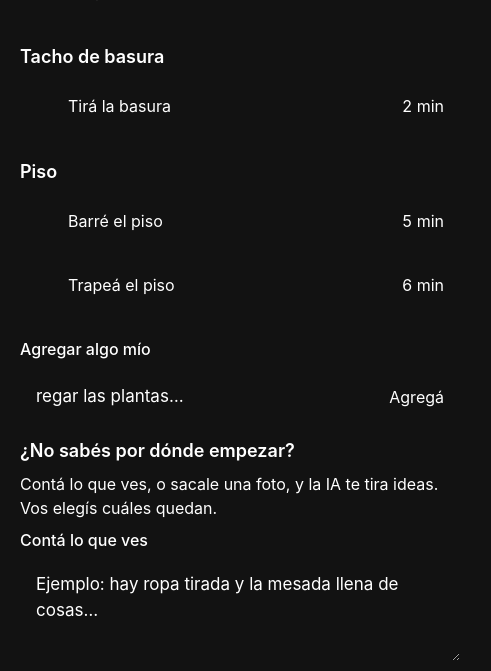
Scenario: agregar una tarea propia lo confirma con un aviso
The width and height of the screenshot is (491, 671).
(page scrolled)
Type "Regar las plantas" into the field labelled "Agregar algo mío".
click(193, 397); type("Regar las plantas")  # box [20,369,365,425]
Then press Enter
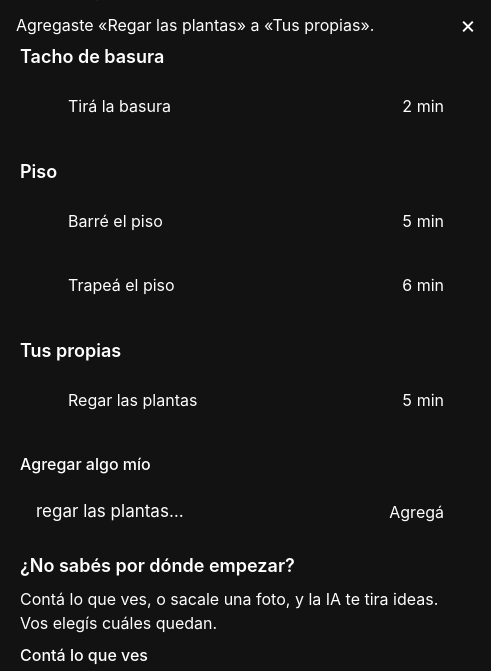
Check: the text "Agregaste «Regar las plantas» a «Tus propias»." is shown, box [16,15,374,35]
